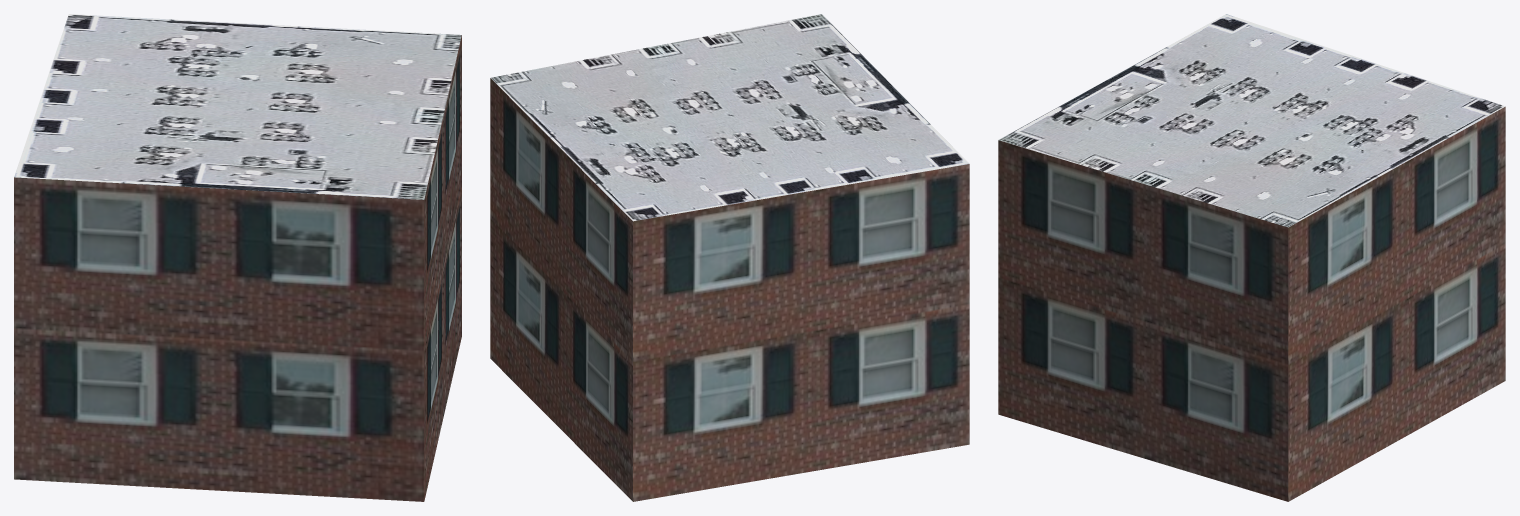
Rendered from ResTex__4712.fbx.
The picture shows the model from 3 angles, left to right: view 1: azimuth 30°, elevation 25°; view 2: azimuth 150°, elevation 25°; view 3: azimuth 270°, elevation 25°; orthographic projection. The views are drawn at different scales.
Parts seen in each view (by area): view 1: CityEngineMaterial_14_m, CityEngineMaterial_4_m; view 2: CityEngineMaterial_14_m, CityEngineMaterial_4_m; view 3: CityEngineMaterial_14_m, CityEngineMaterial_4_m.
Part boxes in pixels (left/top/right/bottom): CityEngineMaterial_14_m: left=14, top=35, right=461, bottom=501; CityEngineMaterial_4_m: left=14, top=14, right=461, bottom=199; CityEngineMaterial_14_m: left=490, top=78, right=969, bottom=501; CityEngineMaterial_4_m: left=491, top=14, right=969, bottom=221; CityEngineMaterial_14_m: left=998, top=106, right=1505, bottom=501; CityEngineMaterial_4_m: left=998, top=14, right=1505, bottom=227.
Size of the model in its own units: 10.02 by 6 by 10.06.
Materials: 2 (2 with a texture image).
